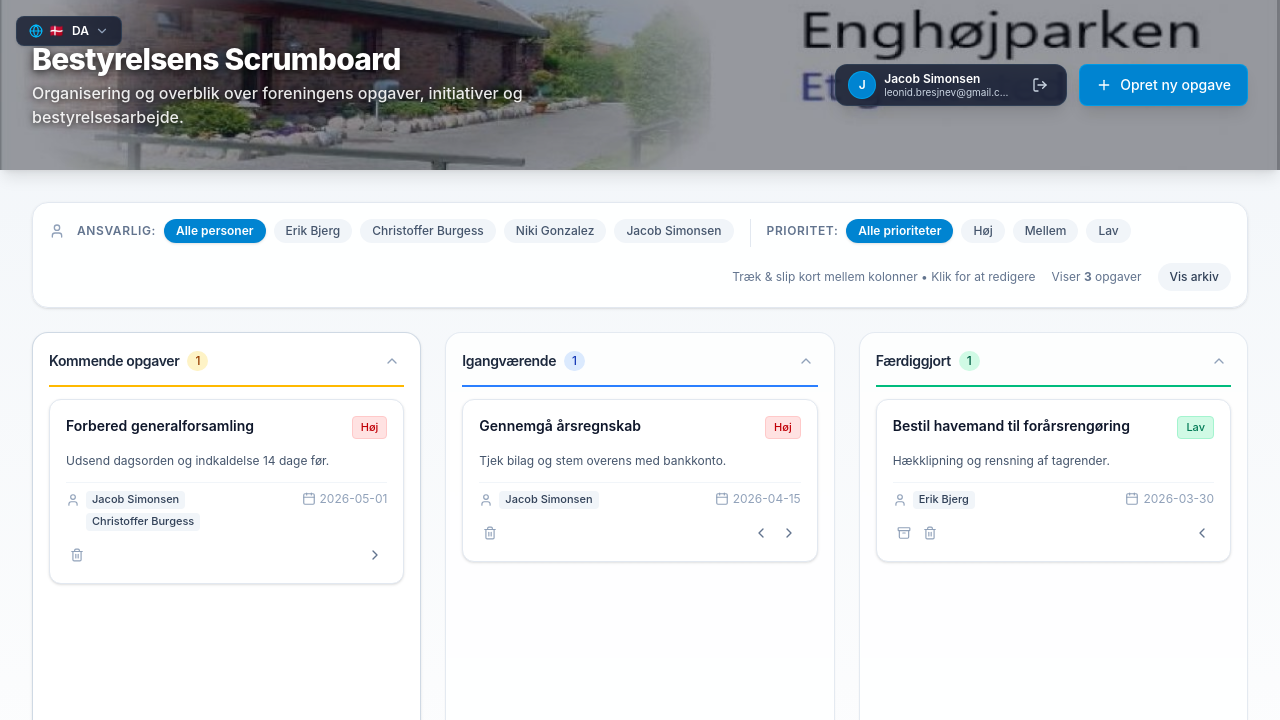
Test case: Scrumboard Tests with Mock Data › opens card when clicking directly on the card and does not show edit icon in bottom of card or icon after priority
Note: Click anywhere on the card to open it
What coordinates should you click on to do the following:
click the heading "Forbered generalforsamling"
I would click on:
 (160, 426)
Its box is x1=66 y1=417 x2=254 y2=434.
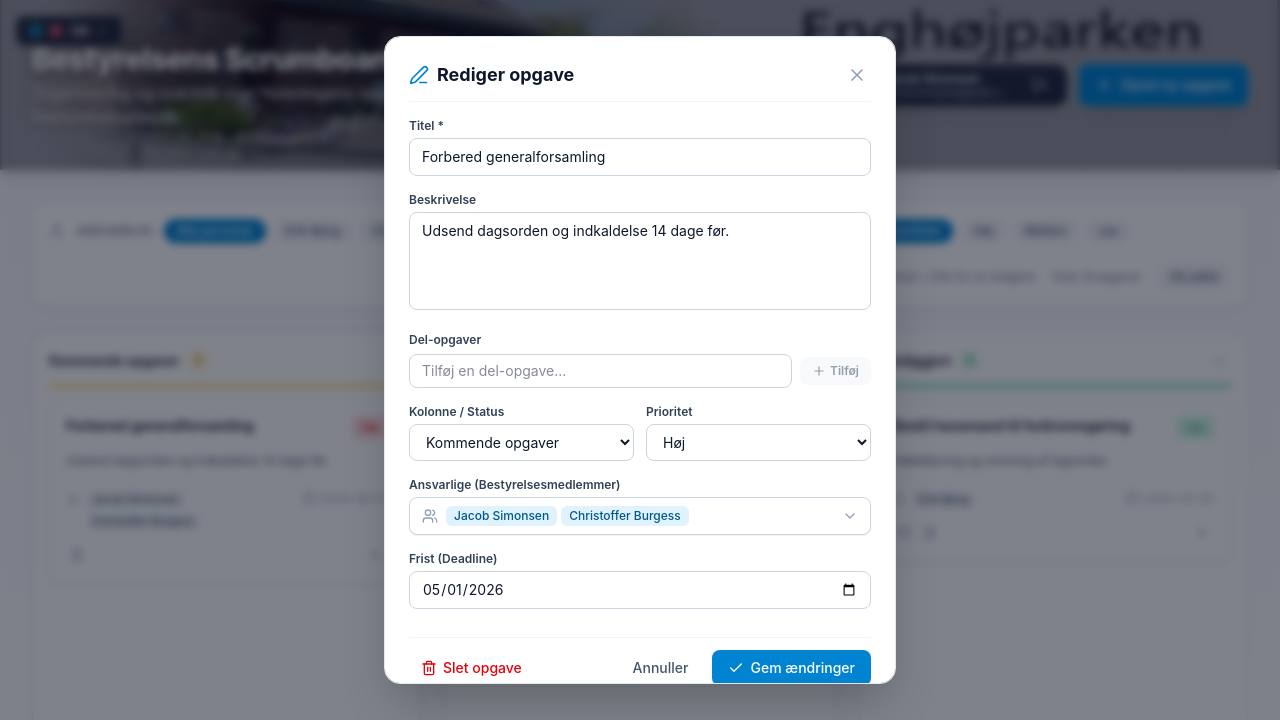
Check: the heading "Rediger opgave" is shown, box x1=437 y1=61 x2=574 y2=89
